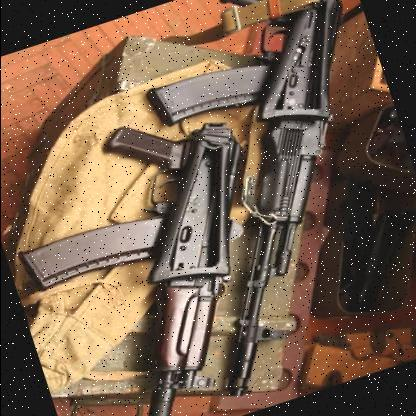rifle: (101, 0, 416, 397), (0, 99, 321, 416)
